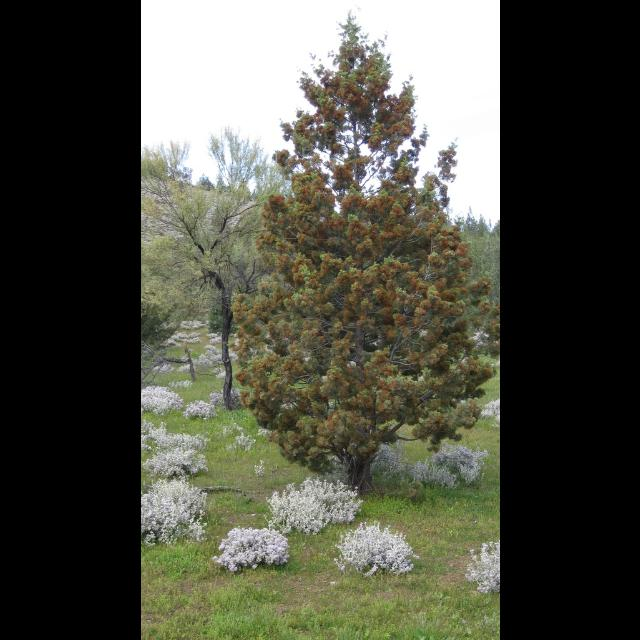Flower: (140, 318, 498, 546), (266, 476, 362, 538), (336, 521, 420, 575), (214, 523, 290, 575), (466, 541, 498, 597)
